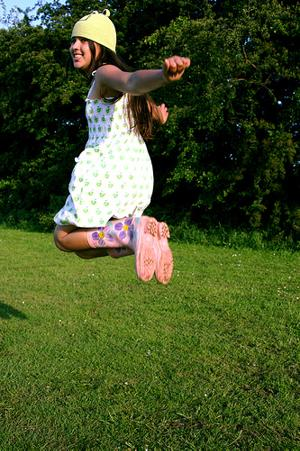person: (53, 10, 191, 292)
